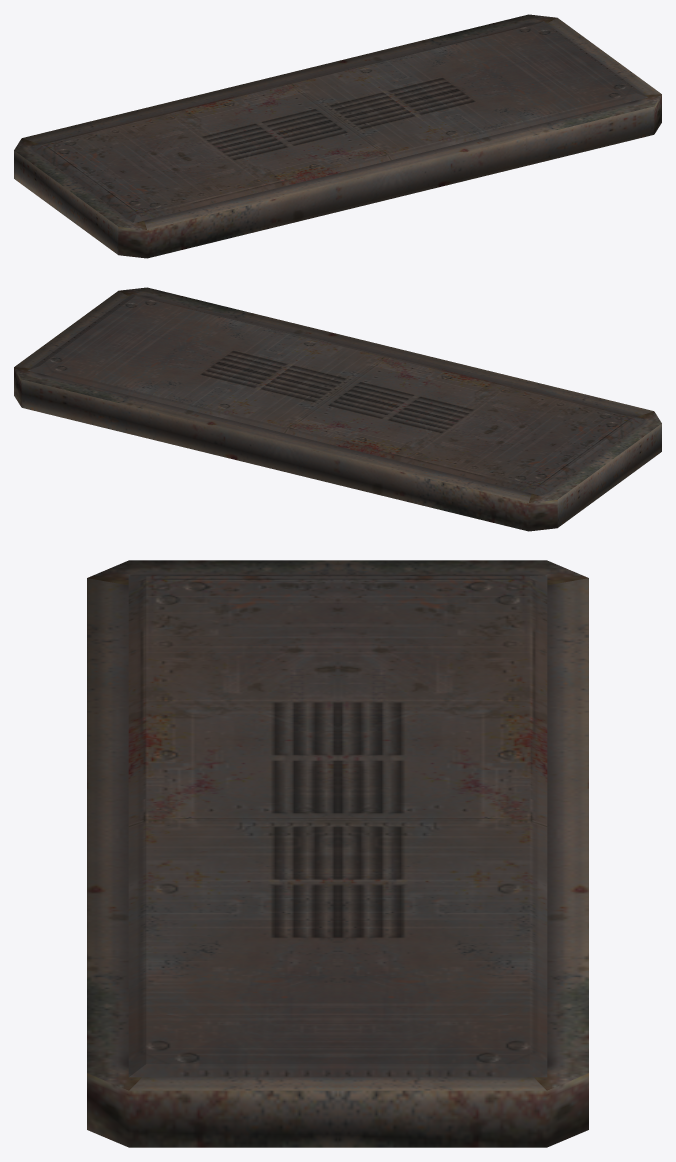
Rendered from Floor_E_2'5qmts_03.fbx.
3 renders of one model, top to bottom at view 1: azimuth 30°, elevation 25°; view 2: azimuth 150°, elevation 25°; view 3: azimuth 270°, elevation 25°, orthographic. The views are drawn at different scales.
Visible parts, largest first — view 1: Floor_E_2'5qmts_03; view 2: Floor_E_2'5qmts_03; view 3: Floor_E_2'5qmts_03.
Part boxes in pixels (box(x1,y1,x2,y2)): Floor_E_2'5qmts_03: box(14, 14, 661, 258); Floor_E_2'5qmts_03: box(14, 287, 661, 531); Floor_E_2'5qmts_03: box(87, 560, 588, 1147).
Bounding box in the file's own units: 250 × 13.81 × 100.
1 material, 1 textured.
